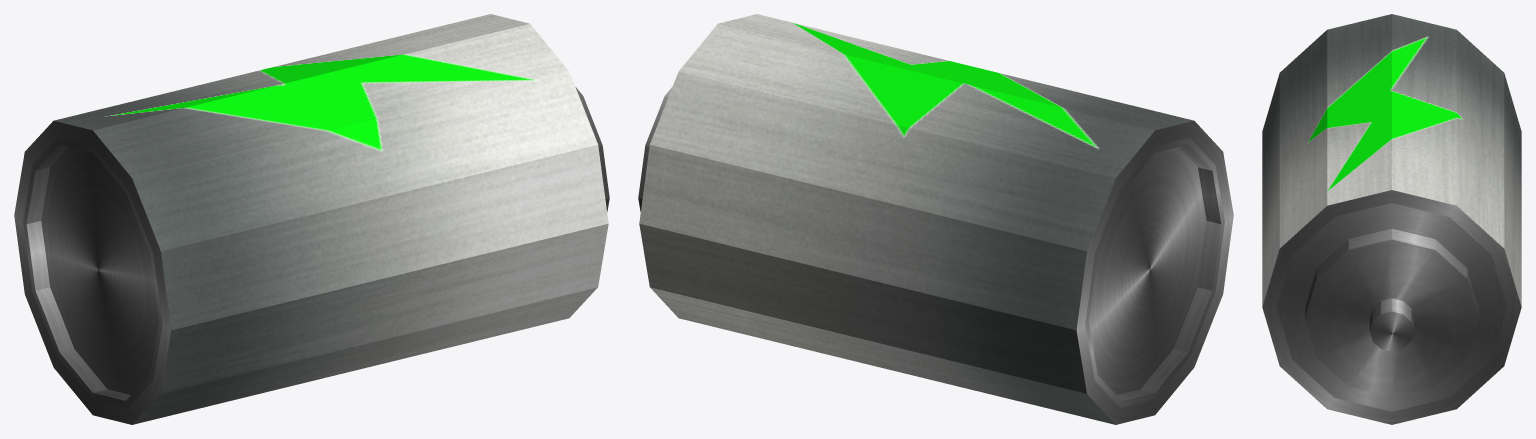
The model's file is Denti_UV.fbx.
3 renders of one model, left to right at view 1: azimuth 30°, elevation 25°; view 2: azimuth 150°, elevation 25°; view 3: azimuth 270°, elevation 25°, orthographic. The views are drawn at different scales.
Parts seen in each view (by area): view 1: pCylinder1; view 2: pCylinder1; view 3: pCylinder1.
Boxes of the visible parts, left/top/right/bottom form: pCylinder1: left=14, top=14, right=609, bottom=424; pCylinder1: left=638, top=14, right=1233, bottom=424; pCylinder1: left=1262, top=14, right=1521, bottom=424.
Size of the model in its own units: 3.65 by 2 by 2.
